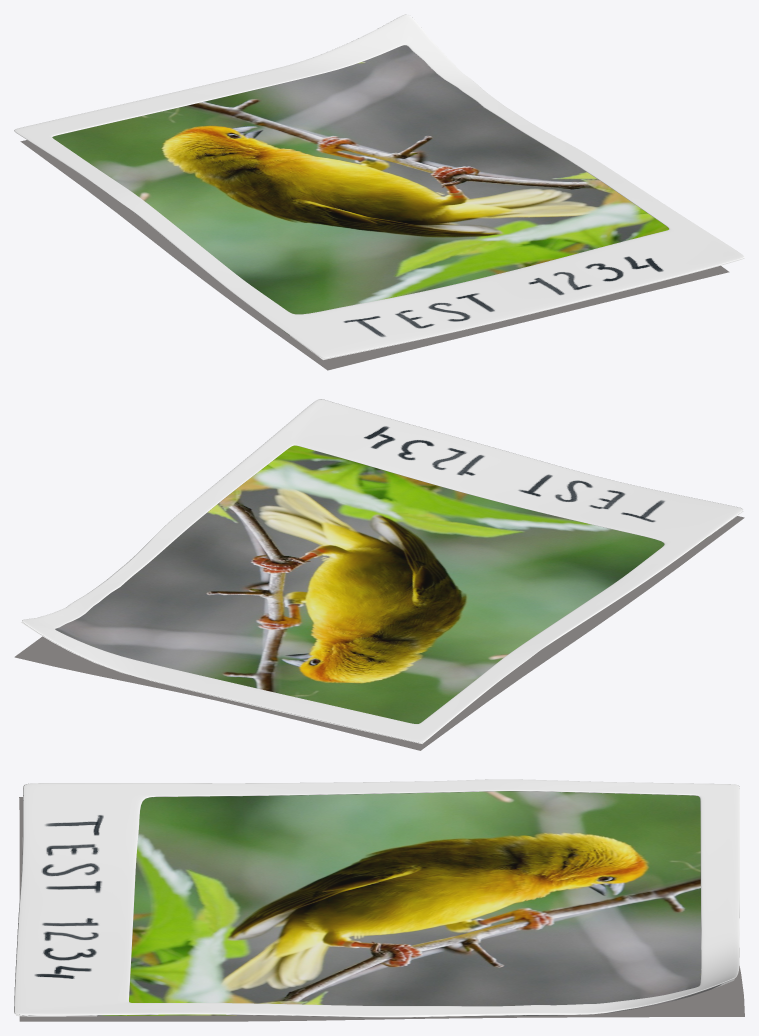
The model's file is photo.glb.
3 renders of one model, top to bottom at view 1: azimuth 30°, elevation 25°; view 2: azimuth 150°, elevation 25°; view 3: azimuth 270°, elevation 25°, orthographic. The views are drawn at different scales.
Size of the model in its own units: 9.74 by 0.7119 by 12.82.
Materials: 3 (2 with a texture image).
